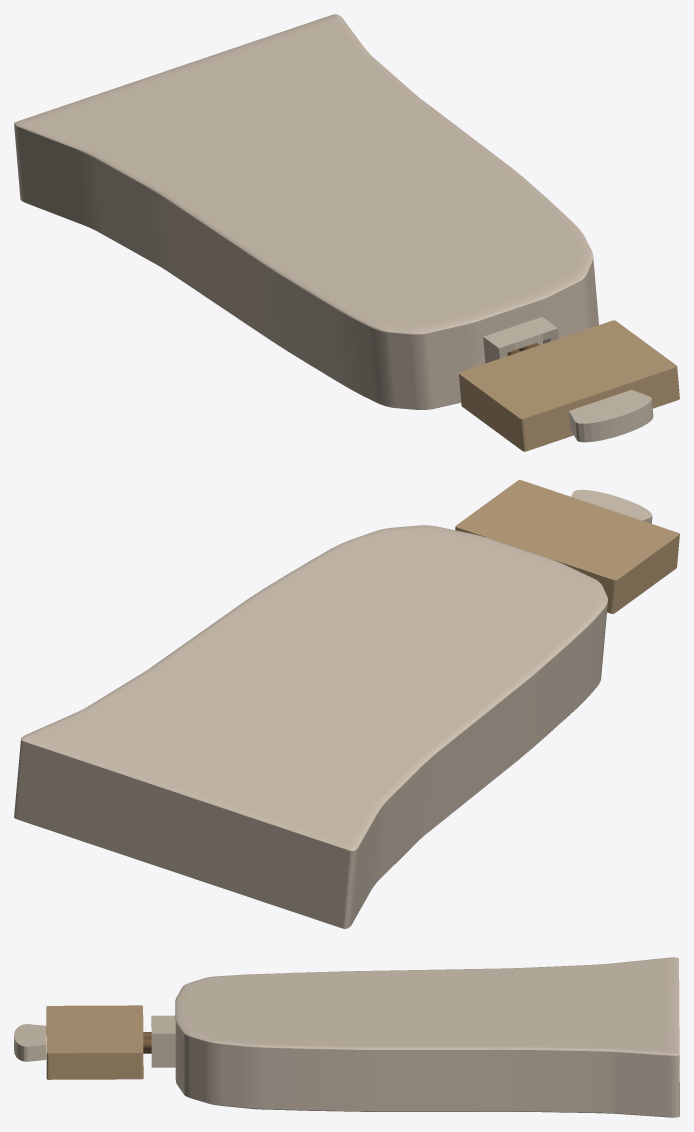
The picture shows the model from 3 angles, top to bottom: view 1: azimuth 30°, elevation 25°; view 2: azimuth 150°, elevation 25°; view 3: azimuth 270°, elevation 25°; orthographic projection. The views are drawn at different scales.
Visible parts, largest first — view 1: Body, Head Base, Nurse Hat, Collar; view 2: Body, Head Base, Nurse Hat; view 3: Body, Head Base, Collar, Nurse Hat.
Part boxes in pixels (bbox=[...]): Body: bbox=[14, 14, 598, 409]; Head Base: bbox=[459, 320, 679, 451]; Nurse Hat: bbox=[569, 389, 653, 442]; Collar: bbox=[483, 317, 558, 363]; Body: bbox=[14, 525, 607, 928]; Head Base: bbox=[455, 480, 679, 613]; Nurse Hat: bbox=[571, 489, 652, 523]; Body: bbox=[175, 957, 679, 1117]; Head Base: bbox=[46, 1005, 143, 1079]; Collar: bbox=[151, 1015, 175, 1067]; Nurse Hat: bbox=[14, 1024, 46, 1061].
Size of the model in its own units: 0.8891 by 0.2815 by 2.02.
